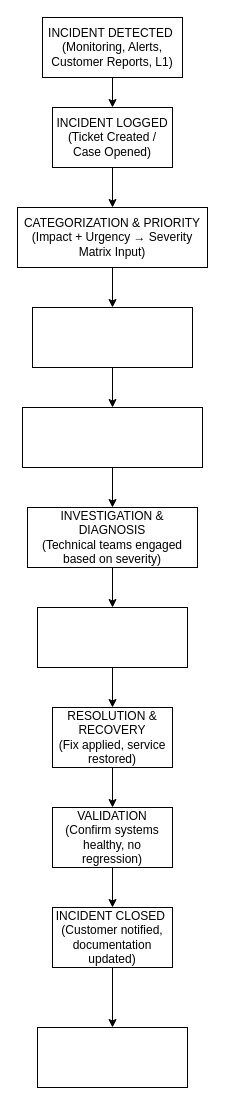
The diagram is 225 pixels wide and 1105 high, and some of its shapes have lost their labels. The shapes that lost their labels are listed below. From the top down, each one's centre as x and y in pixels, then its label:
(112,337): SEVERITY MATRIX DECISION (SEV‑0 → SEV‑4 Assigned)
(112,437): INITIAL DIAGNOSIS / TRIAGE (L1) (Identify symptoms, affected systems, scope)
(112,637): RESPONSE / MITIGATION ACTIONS (Stabilize, contain, reduce impact)
(112,1057): RCA / POST‑INCIDENT (Mandatory for SEV‑3/4, optional for others)
